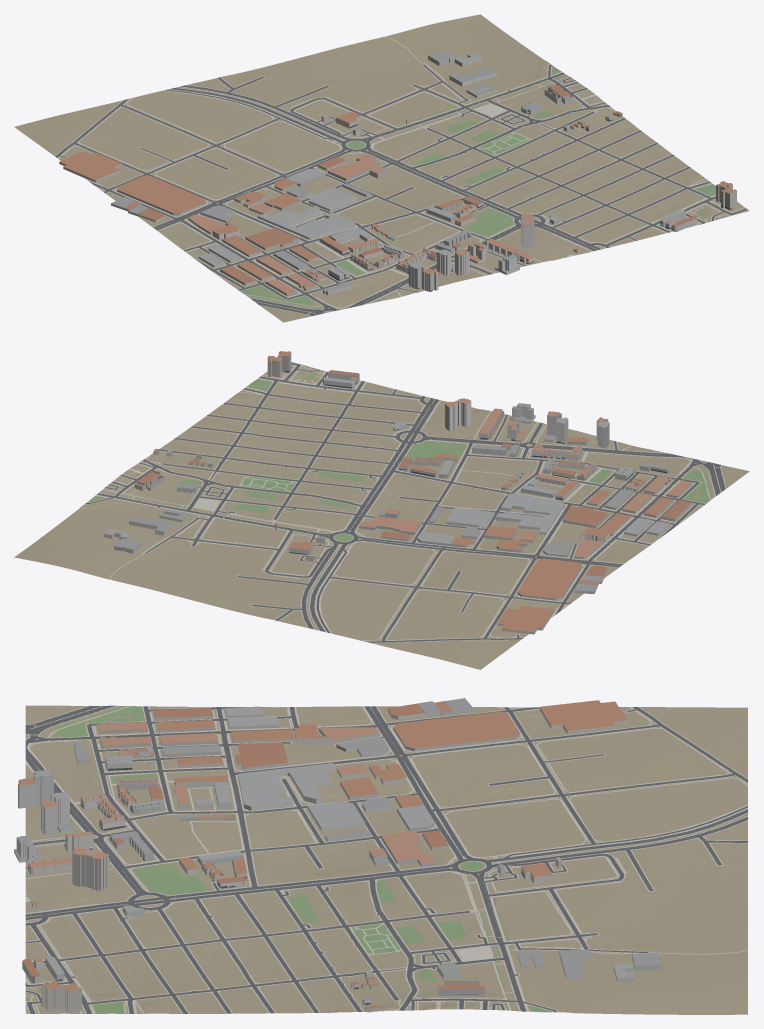
3 renders of one model, top to bottom at view 1: azimuth 30°, elevation 25°; view 2: azimuth 150°, elevation 25°; view 3: azimuth 270°, elevation 25°, orthographic. The views are drawn at different scales.
Visible parts, largest first — view 1: Ground, Sidewalk, Road, Roofs, Walls, Park; view 2: Ground, Sidewalk, Road, Roofs, Walls, Park; view 3: Ground, Road, Sidewalk, Roofs, Walls, Park, Curb.
Part boxes in pixels (x1=…): Ground: x1=14, y1=14, x2=748, y2=322; Sidewalk: x1=55, y1=36, x2=749, y2=316; Road: x1=55, y1=64, x2=747, y2=315; Roofs: x1=59, y1=50, x2=736, y2=293; Walls: x1=59, y1=52, x2=736, y2=295; Park: x1=240, y1=66, x2=715, y2=306; Ground: x1=14, y1=362, x2=749, y2=669; Sidewalk: x1=85, y1=362, x2=726, y2=643; Road: x1=85, y1=363, x2=725, y2=642; Roofs: x1=104, y1=351, x2=691, y2=632; Walls: x1=104, y1=352, x2=692, y2=634; Park: x1=87, y1=373, x2=711, y2=541; Ground: x1=25, y1=705, x2=747, y2=1014; Road: x1=25, y1=705, x2=747, y2=1013; Sidewalk: x1=25, y1=705, x2=747, y2=1013; Roofs: x1=14, y1=698, x2=661, y2=1008; Walls: x1=14, y1=707, x2=661, y2=1012; Park: x1=25, y1=706, x2=552, y2=1013; Curb: x1=28, y1=707, x2=747, y2=1003.
Bounding box in the file's own units: 1019 × 51.44 × 1019.
